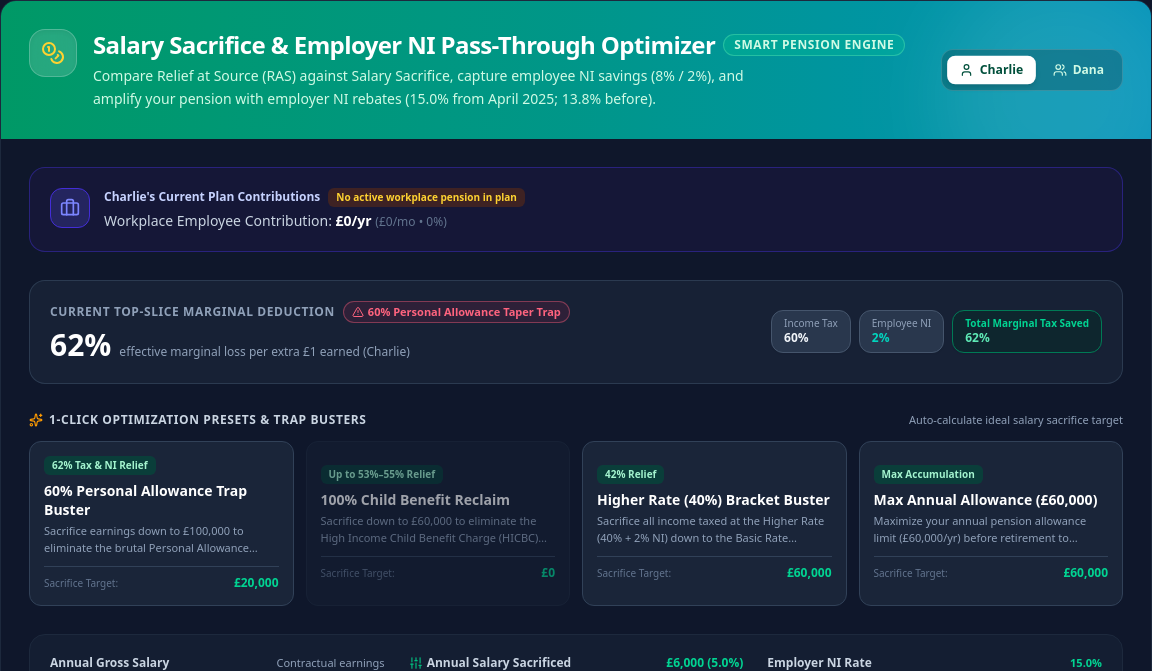
Test: SalarySacrificeOptimizerCard › supports couple planning person switching
Expected: the text "effective marginal loss per extra £1 earned (Charlie)" is shown, [119, 344, 410, 360]
// Switch to Dana
Click the button "Dana": [1078, 70] box [1041, 56, 1116, 84]
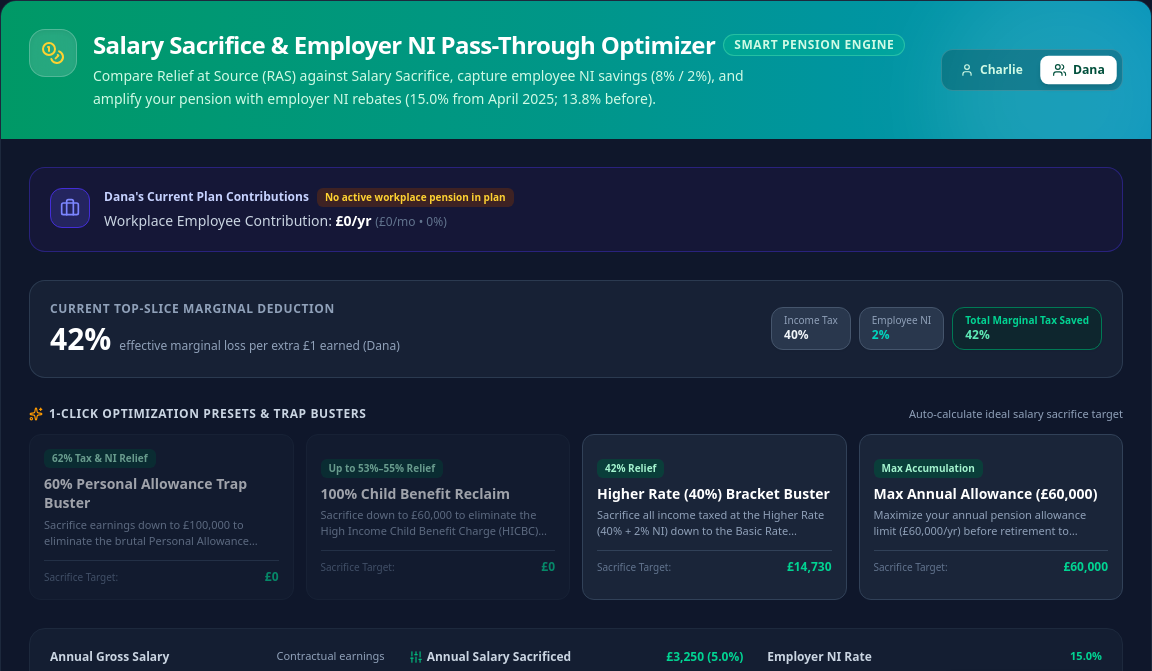
Expected: the text "effective marginal loss per extra £1 earned (Dana)" is shown, [119, 338, 400, 354]
